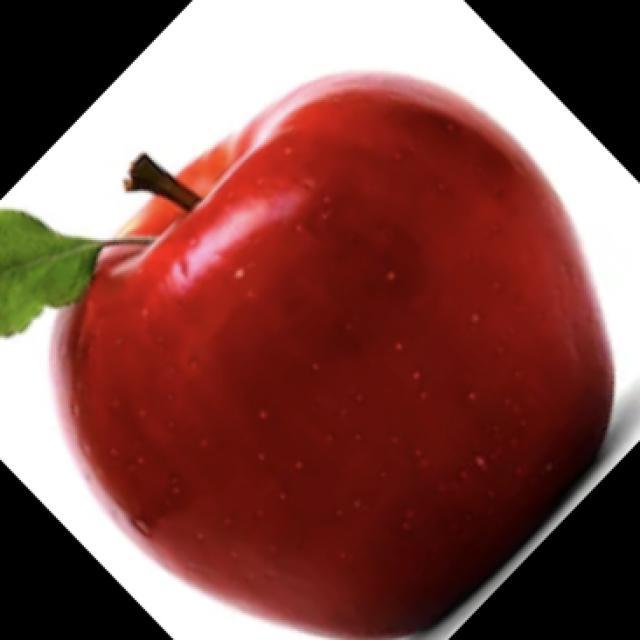Fresh Apple: (86, 85, 592, 640)
